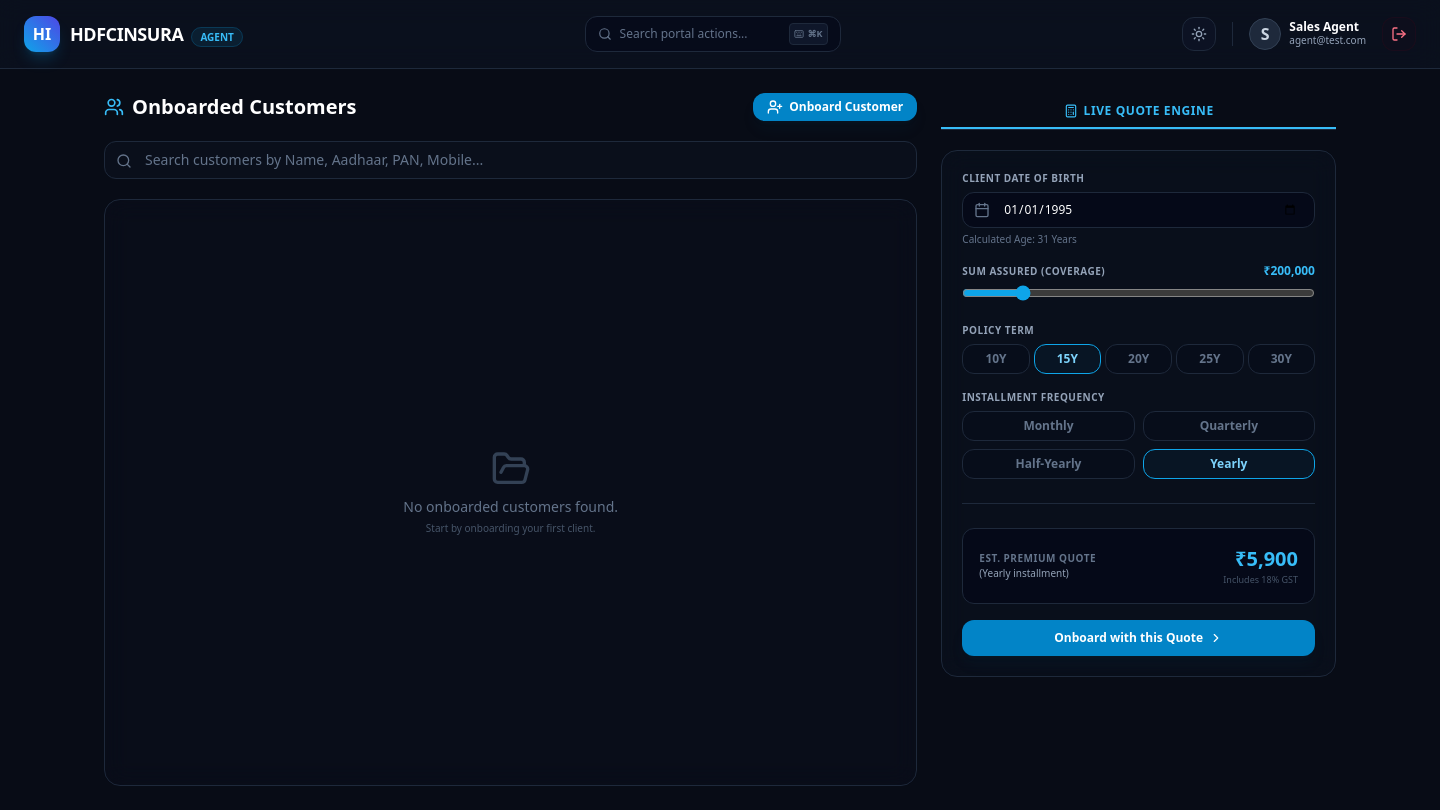
Test: Live Premium Calculator Widget › updates quote display when sum assured input changes
Change sum assured to 500,000
Set the slider to "500000" at {"x": 1130, "y": 293}, box x1=962 y1=285 x2=1315 y2=301
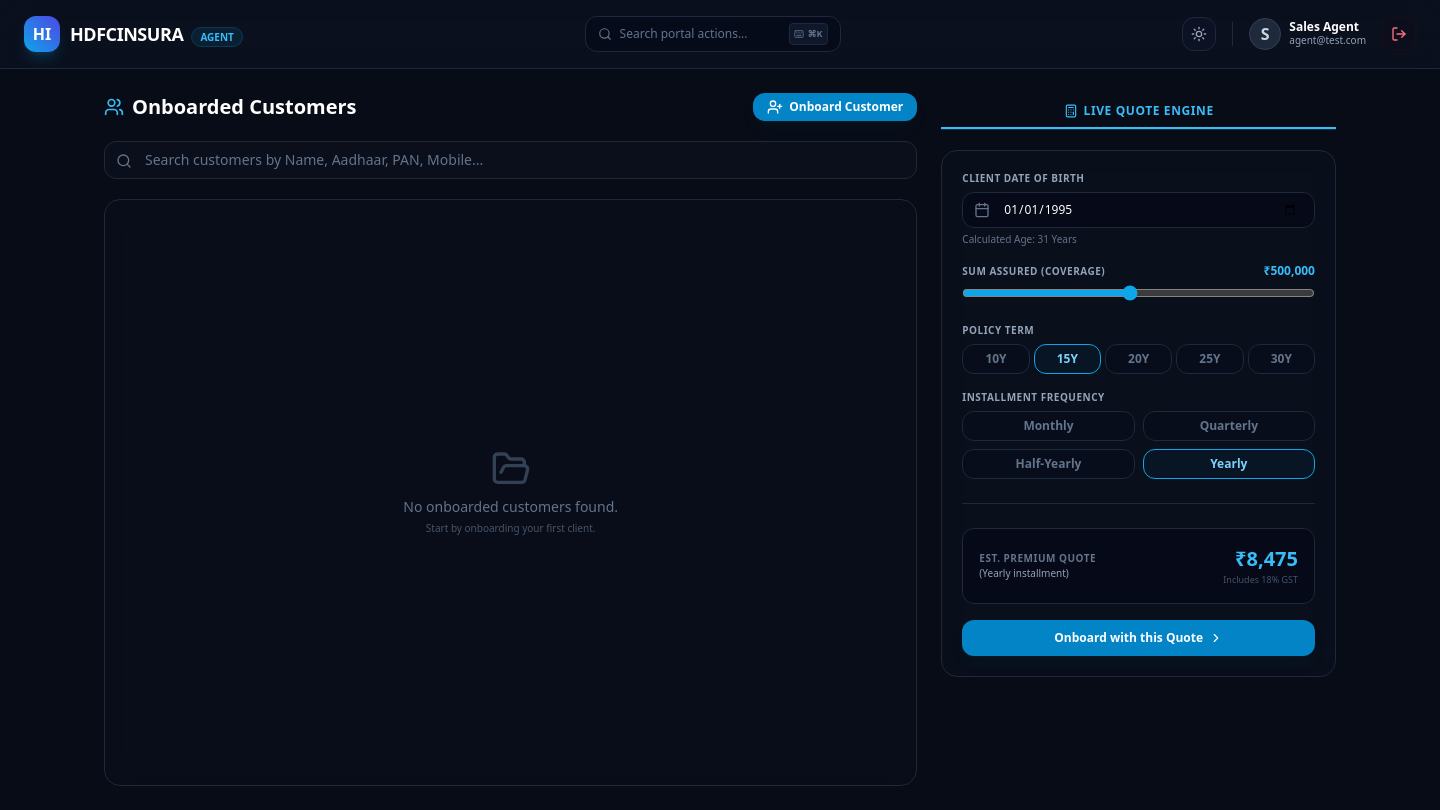
Expected: the text "₹8,475" is shown, x1=1235 y1=545 x2=1298 y2=572
